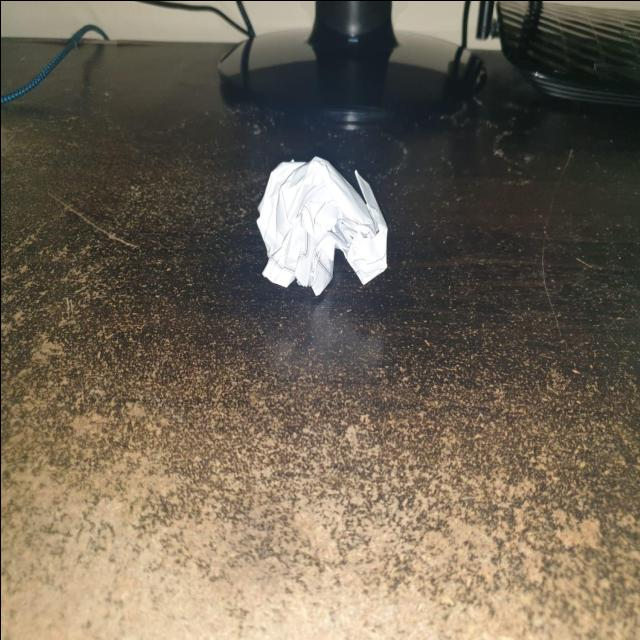kertas: (254, 148, 394, 301)
